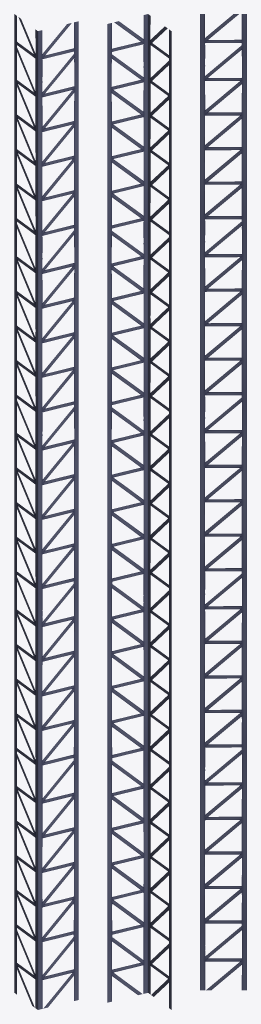
File: scaffold.fbx
3 renders of one model, left to right at view 1: azimuth 30°, elevation 25°; view 2: azimuth 210°, elevation 25°; view 3: azimuth 270°, elevation 25°, orthographic.
Visible parts, largest first — view 1: scaffold_2.005; view 2: scaffold_2.005; view 3: scaffold_2.005.
Boxes of the visible parts, x1=… form: scaffold_2.005: x1=14, y1=14, x2=78, y2=1009; scaffold_2.005: x1=107, y1=14, x2=171, y2=1009; scaffold_2.005: x1=200, y1=14, x2=246, y2=990.
Size of the model in its own units: 400 by 9198 by 400.
